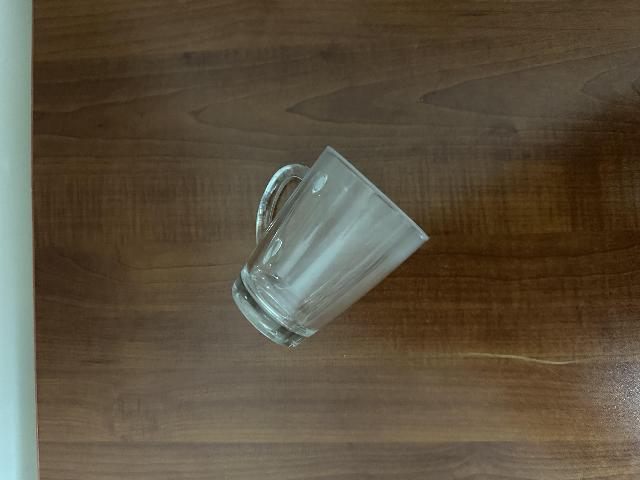Cam: (229, 144, 435, 352)
